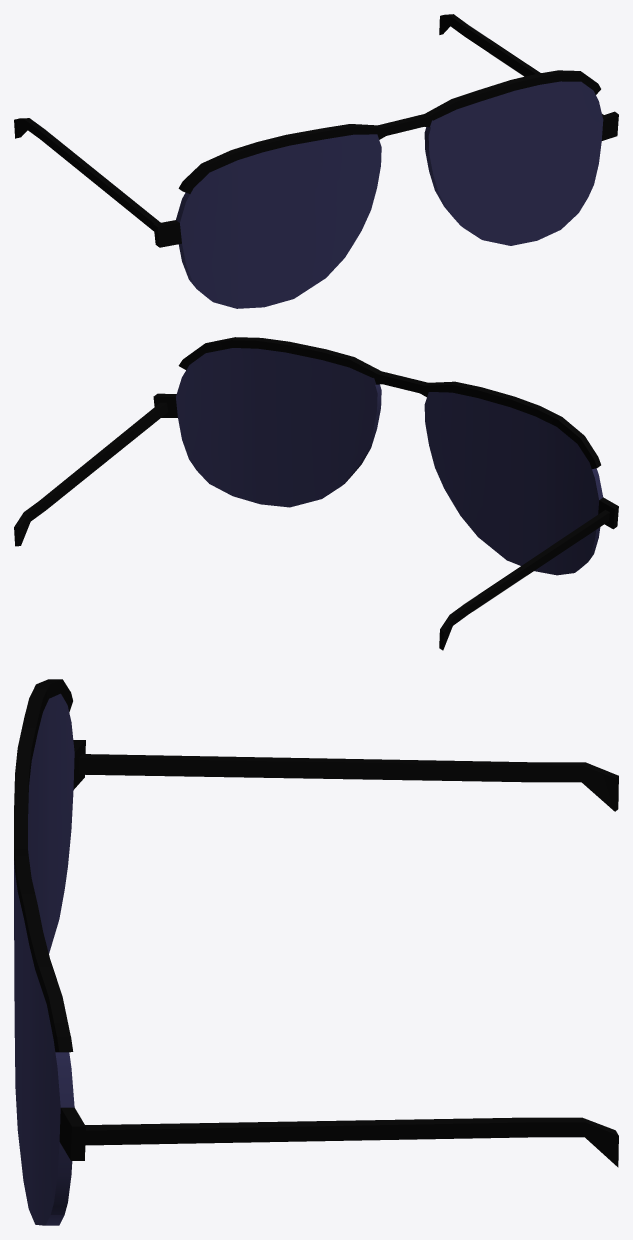
The model's file is glass.glb.
3 renders of one model, top to bottom at view 1: azimuth 30°, elevation 25°; view 2: azimuth 150°, elevation 25°; view 3: azimuth 270°, elevation 25°, orthographic. The views are drawn at different scales.
Visible parts, largest first — view 1: glasses; view 2: glasses; view 3: glasses.
Part boxes in pixels (box(x1,y1,x2,y2)): glasses: box(14, 14, 618, 308); glasses: box(14, 337, 618, 650); glasses: box(14, 679, 618, 1225).
Size of the model in its own units: 0.0443 by 0.0151 by 0.0293.
